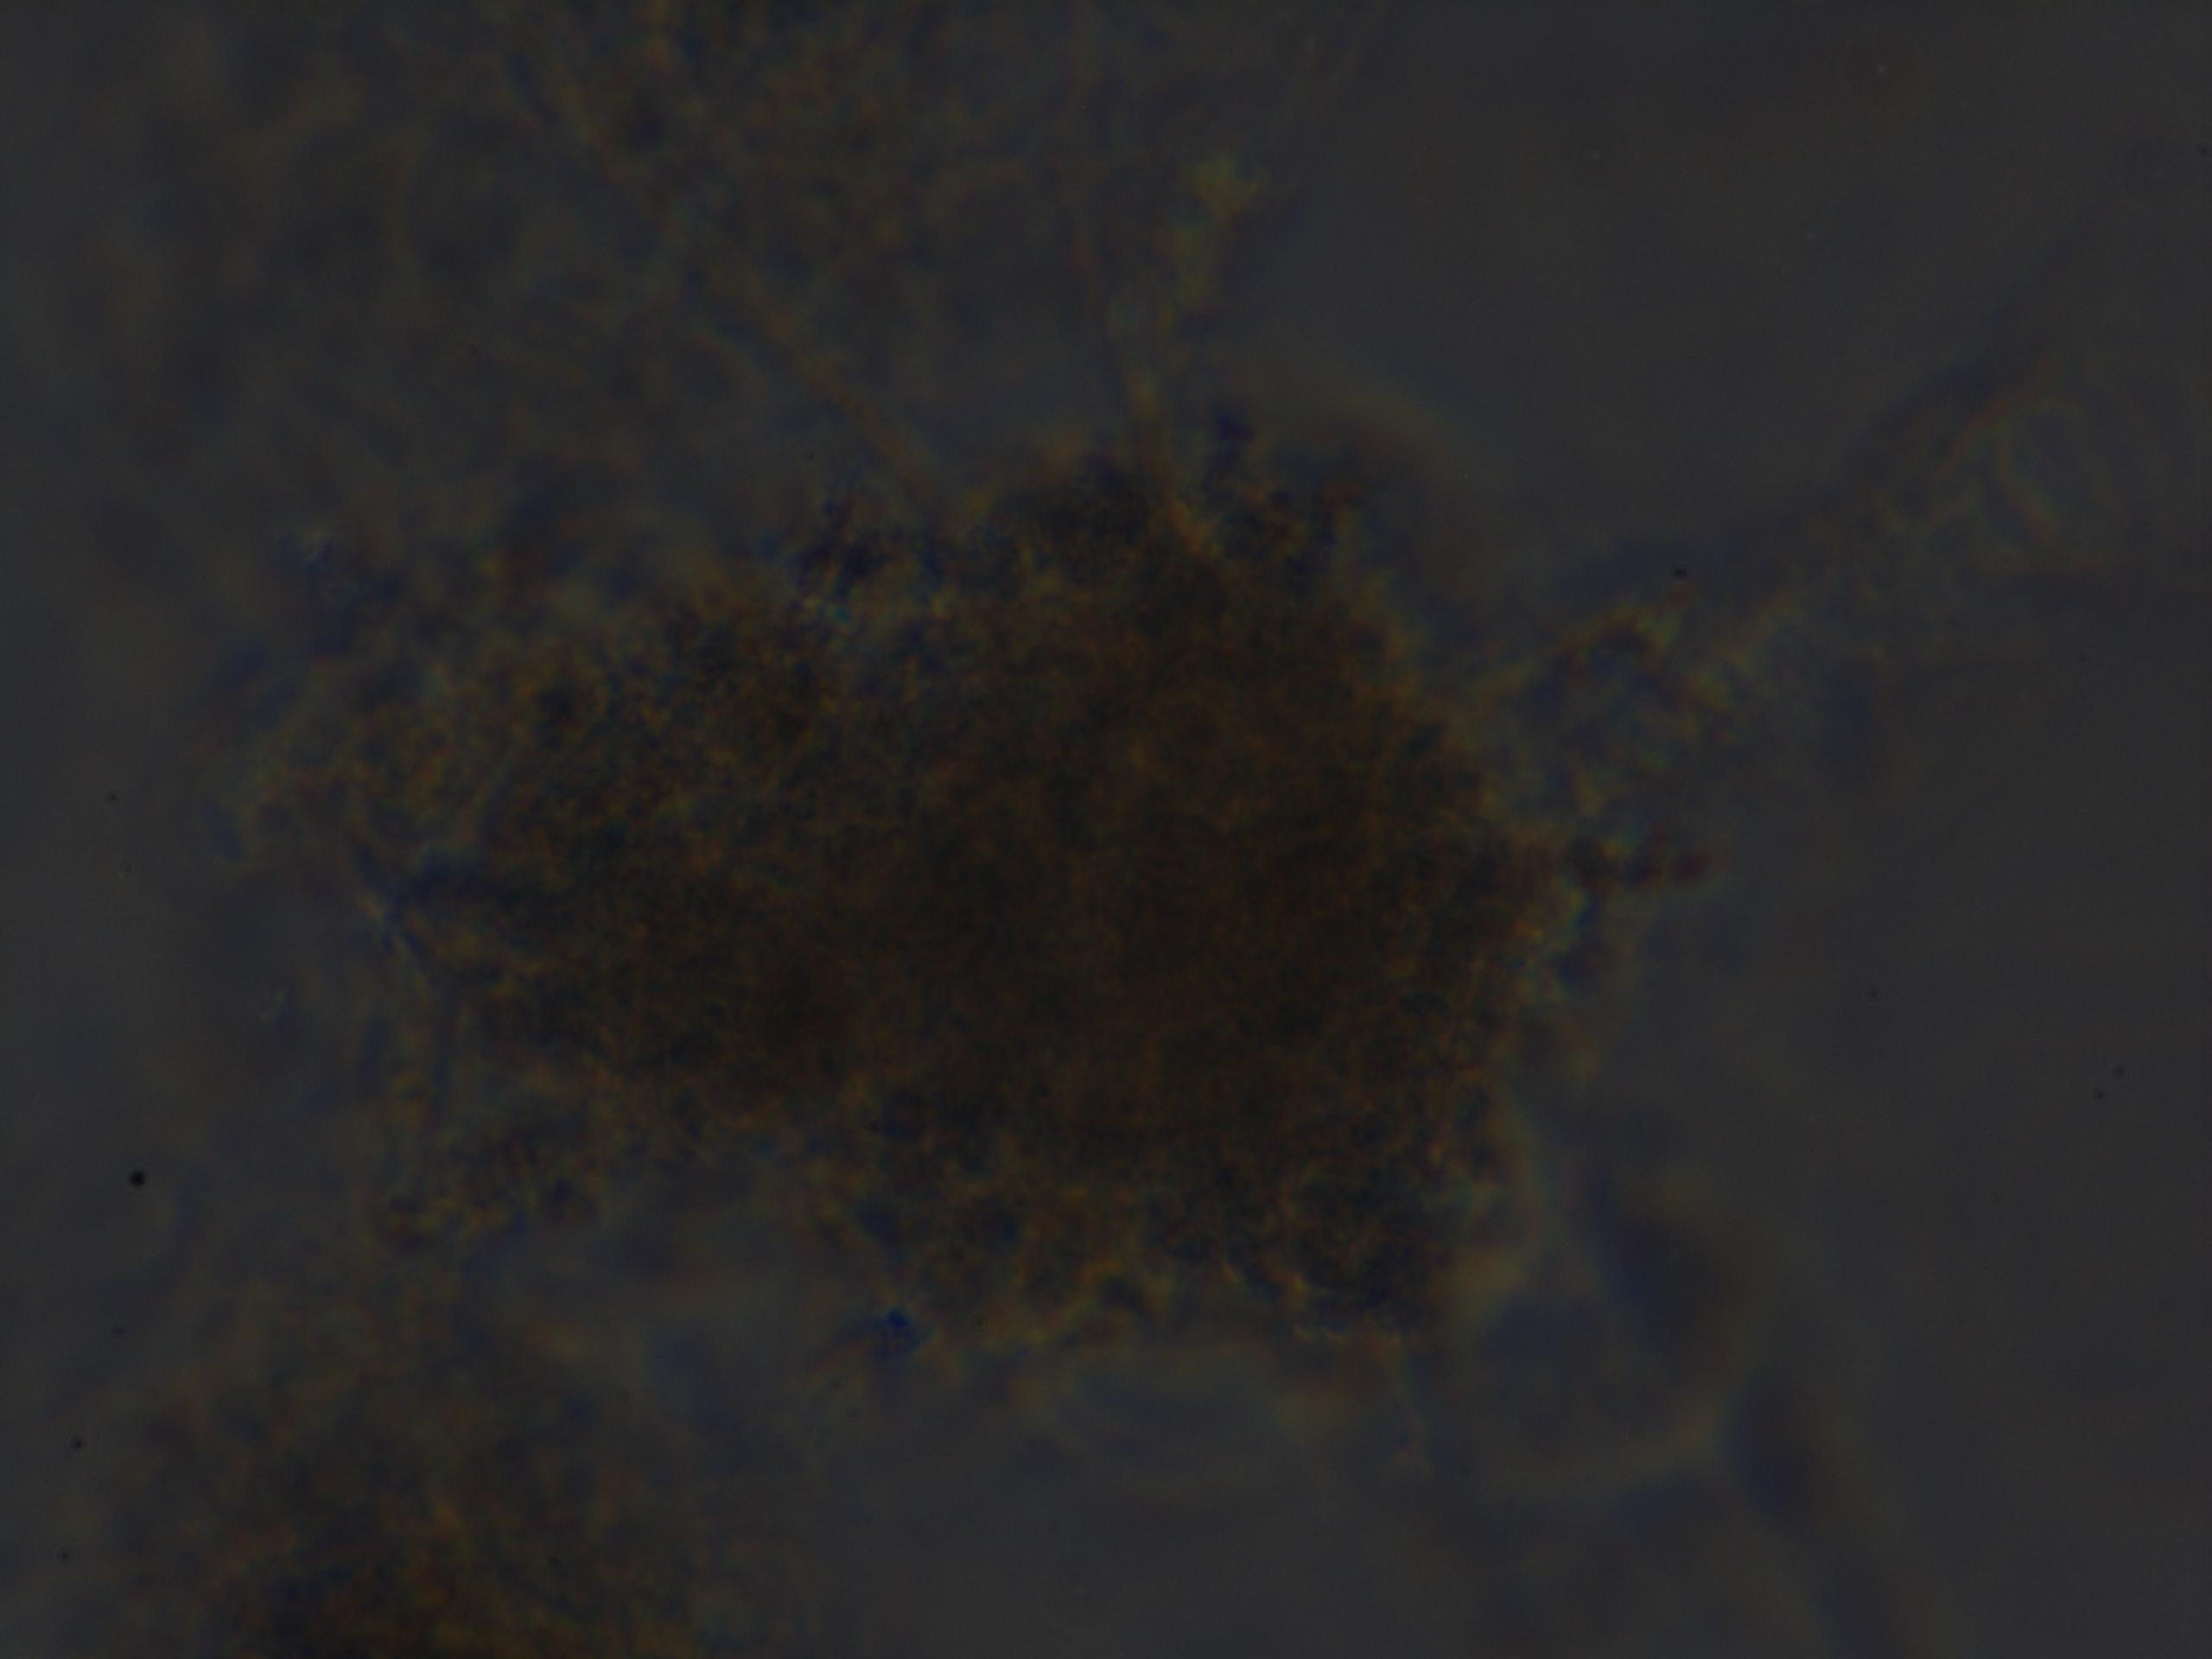spherical_floc: (298, 418, 1601, 1385)
